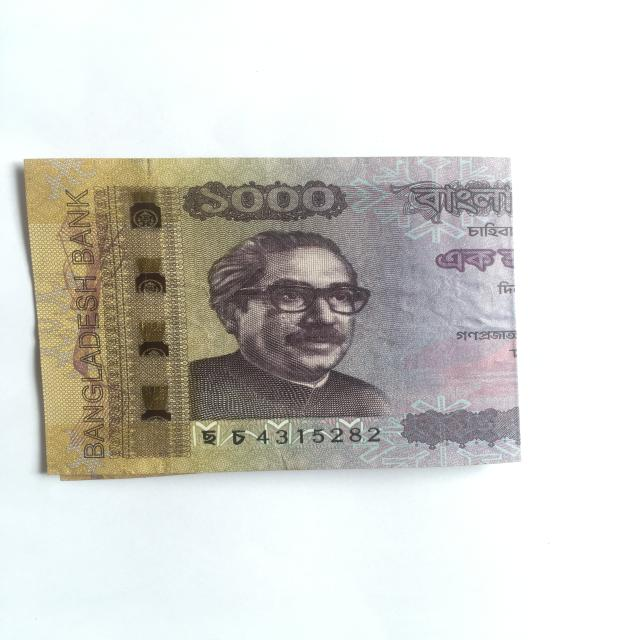Taka: (17, 144, 534, 480)
